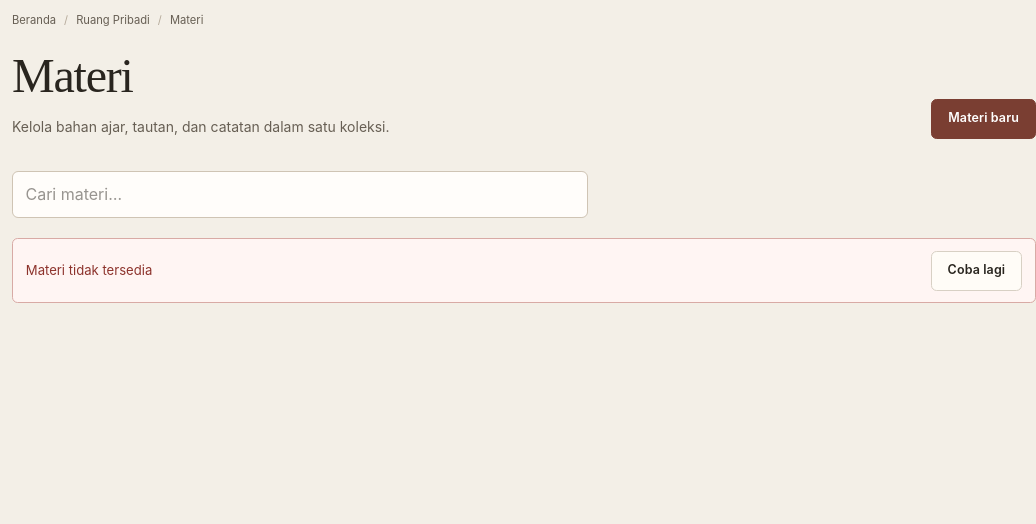
Test: ResourceList › shows a retry action when a resource list cannot load
Expected: the message shows "Materi tidak tersedia", x1=26 y1=262 x2=152 y2=278
Click the button "Coba lagi" at coordinates (976, 271), box x1=931 y1=251 x2=1022 y2=291
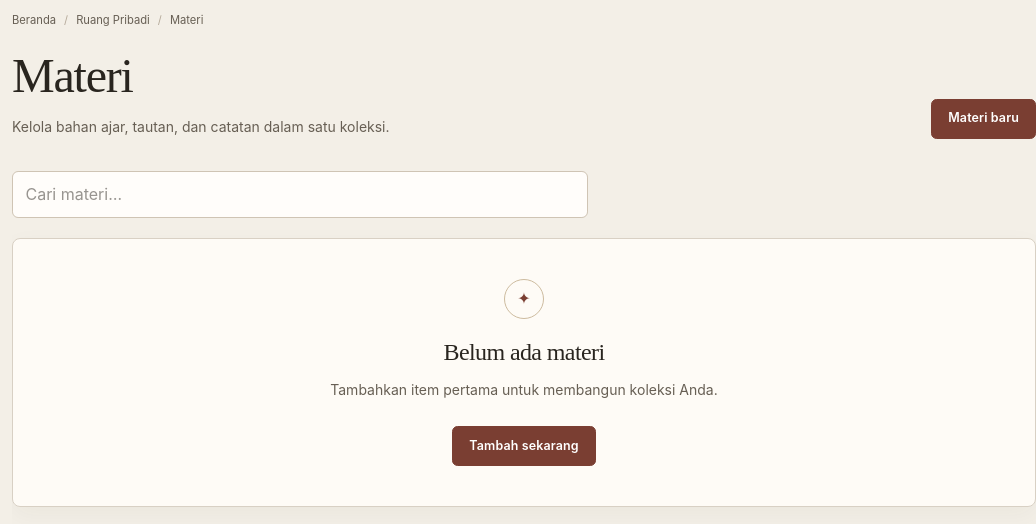
Result: the heading "Belum ada materi" is shown at x1=444 y1=339 x2=604 y2=366
